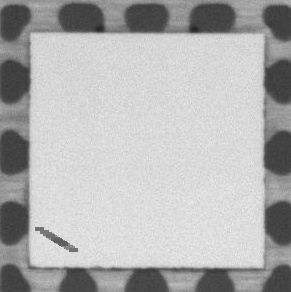DIE_INK: (33, 222, 81, 257)
